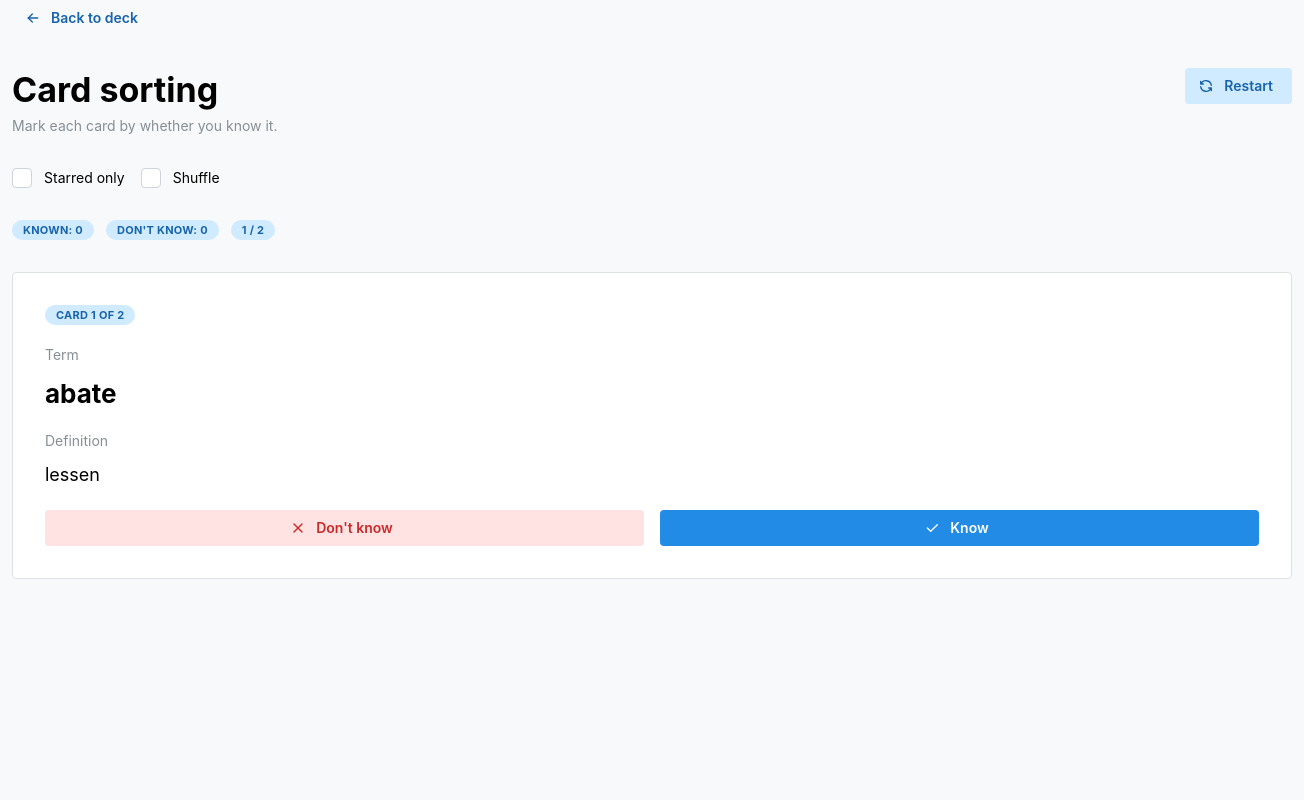
Scenario: CardSortingPanel › creates a sorting session and submits know/do not know answers
Expected: the heading "abate" is shown, [45,378,117,409]
Click the button "Know" at x=960, y=528, box [660,510,1259,546]
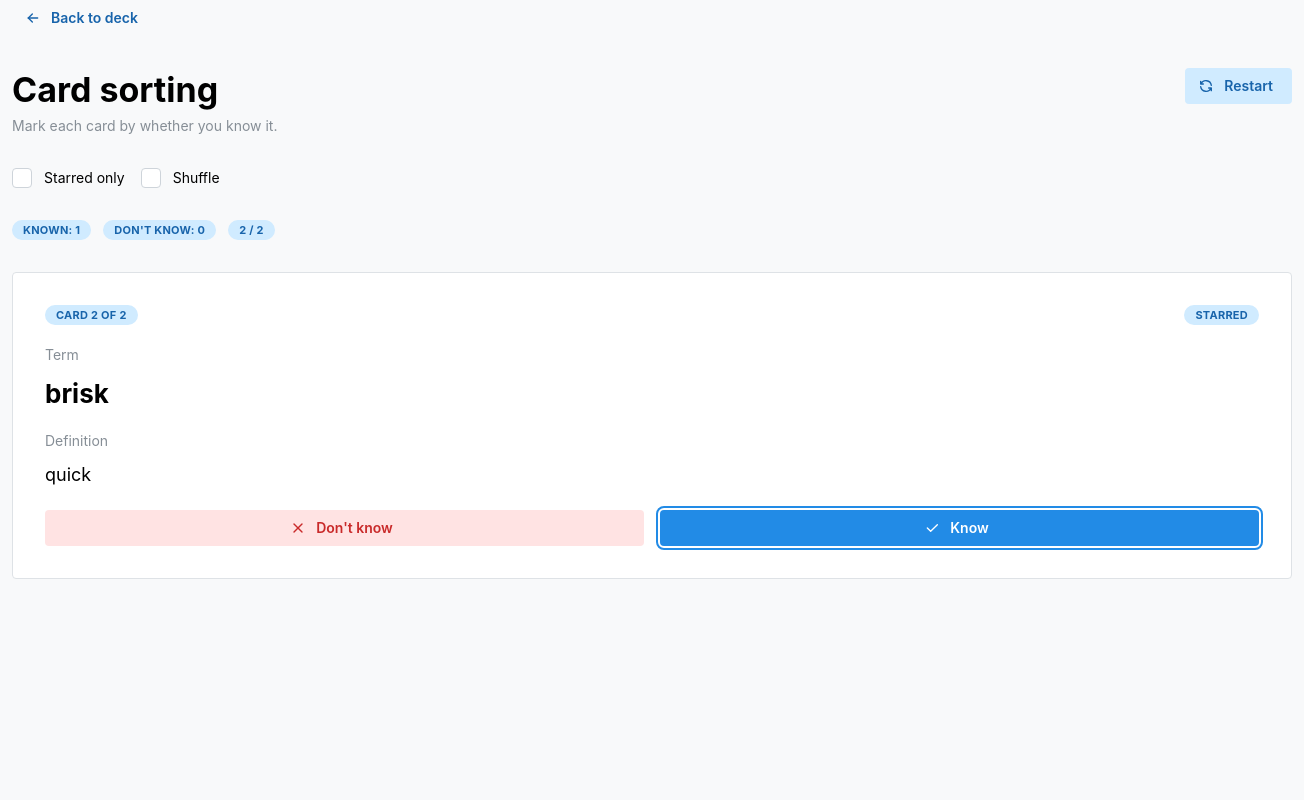
Expected: the heading "brisk" is shown, [45,378,109,409]
Expected: the text "Known: 1" is shown, [23,222,80,240]
Click the button "Don't know" at x=344, y=528, box [45,510,644,546]
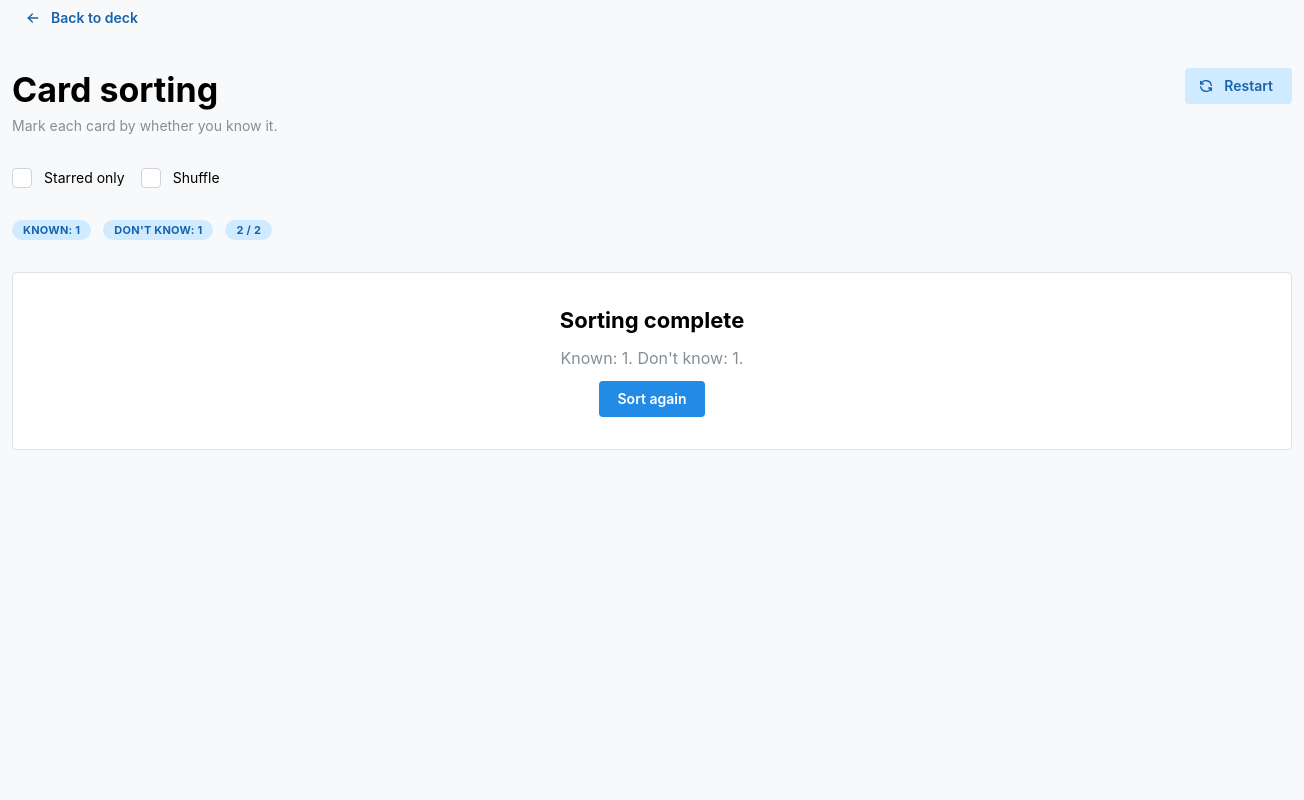
Expected: the heading "Sorting complete" is shown, [560,306,744,336]
Expected: the text "Don't know: 1" is shown, [114,222,202,240]
